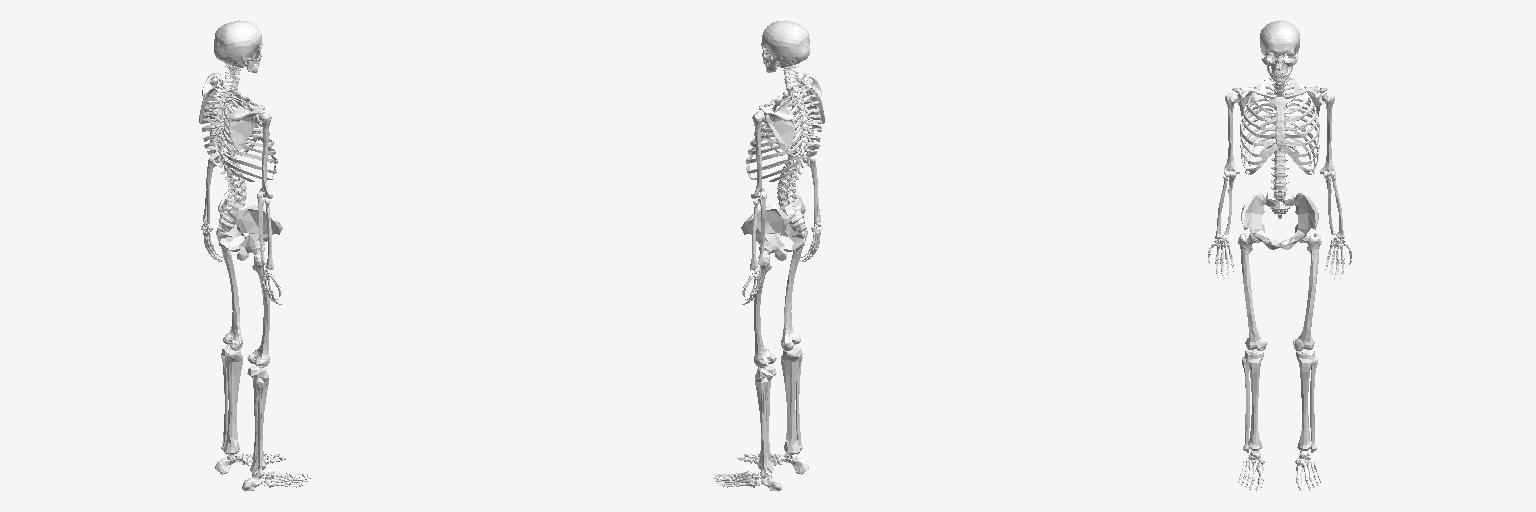
robot.urdf — human:
<?xml version="1.0"?>
<!-- created with Phobos 0.7 -->
  <robot name="human">

    <link name="calcn_l">
      <inertial>
        <origin xyz="0 0 0" rpy="0 0 0"/>
        <mass value="1.25"/>
        <inertia ixx="0.0014" ixy="0" ixz="0" iyy="0.0038999999" iyz="0" izz="0.0041"/>
      </inertial>
      <visual name="calcn_l_visual">
        <origin xyz="0 0 0" rpy="0 0 0"/>
        <geometry>
          <mesh filename="../meshes/obj/Calcn L.obj" scale="1.0 1.0 1.0"/>
        </geometry>
        <material name="mat_calcn_l_visual"/>
      </visual>
      <collision name="calcn_l_collision">
        <origin xyz="0 0 0" rpy="0 0 0"/>
        <geometry>
          <mesh filename="../meshes/obj/Calcn L.001.obj" scale="1.0 1.0 1.0"/>
        </geometry>
      </collision>
    </link>

    <link name="calcn_r">
      <inertial>
        <origin xyz="0 0 0" rpy="0 0 0"/>
        <mass value="1.25"/>
        <inertia ixx="0.0014" ixy="0" ixz="0" iyy="0.0038999999" iyz="0" izz="0.0041"/>
      </inertial>
      <visual name="calcn_r_visual">
        <origin xyz="0 0 0" rpy="0 0 0"/>
        <geometry>
          <mesh filename="../meshes/obj/Calcn R.obj" scale="1.0 1.0 1.0"/>
        </geometry>
        <material name="mat_calcn_r_visual"/>
      </visual>
      <collision name="calcn_r_collision">
        <origin xyz="0 0 0" rpy="0 0 0"/>
        <geometry>
          <mesh filename="../meshes/obj/Calcn R.001.obj" scale="1.0 1.0 1.0"/>
        </geometry>
      </collision>
    </link>

    <link name="femur_l">
      <inertial>
        <origin xyz="0 0 0" rpy="0 0 0"/>
        <mass value="9.3014"/>
        <inertia ixx="0.1339000016" ixy="0" ixz="0" iyy="0.0351000018" iyz="0" izz="0.141200006"/>
      </inertial>
      <visual name="femur_l_visual">
        <origin xyz="0 0 0" rpy="0 0 0"/>
        <geometry>
          <mesh filename="../meshes/obj/Femur L.obj" scale="1.0 1.0 1.0"/>
        </geometry>
        <material name="mat_femur_l_visual"/>
      </visual>
      <collision name="femur_l_collision">
        <origin xyz="0 0 0" rpy="0 0 0"/>
        <geometry>
          <mesh filename="../meshes/obj/Femur L.001.obj" scale="1.0 1.0 1.0"/>
        </geometry>
      </collision>
    </link>

    <link name="femur_r">
      <inertial>
        <origin xyz="0 0 0" rpy="0 0 0"/>
        <mass value="9.3014"/>
        <inertia ixx="0.1339000016" ixy="0" ixz="0" iyy="0.0351000018" iyz="0" izz="0.141200006"/>
      </inertial>
      <visual name="femur_r_visual">
        <origin xyz="0 0 0" rpy="0 0 0"/>
        <geometry>
          <mesh filename="../meshes/obj/Femur R.obj" scale="1.0 1.0 1.0"/>
        </geometry>
        <material name="mat_femur_r_visual"/>
      </visual>
      <collision name="femur_r_collision">
        <origin xyz="0 0 0" rpy="0 0 0"/>
        <geometry>
          <mesh filename="../meshes/obj/Femur R.001.obj" scale="1.0 1.0 1.0"/>
        </geometry>
      </collision>
    </link>

    <link name="hand_l">
      <inertial>
        <origin xyz="0 0 0" rpy="0 0 0"/>
        <mass value="0.4575"/>
        <inertia ixx="0.000892" ixy="0" ixz="0" iyy="0.000547" iyz="0" izz="0.00134"/>
      </inertial>
      <visual name="hand_l_visual">
        <origin xyz="0 0 0" rpy="0 0 0"/>
        <geometry>
          <mesh filename="../meshes/obj/Hand L.obj" scale="1.0 1.0 1.0"/>
        </geometry>
        <material name="mat_hand_l_visual"/>
      </visual>
      <collision name="hand_l_collision">
        <origin xyz="0 0 0" rpy="0 0 0"/>
        <geometry>
          <mesh filename="../meshes/obj/Hand L.001.obj" scale="1.0 1.0 1.0"/>
        </geometry>
      </collision>
    </link>

    <link name="hand_r">
      <inertial>
        <origin xyz="0 0 0" rpy="0 0 0"/>
        <mass value="0.4575"/>
        <inertia ixx="0.000892" ixy="0" ixz="0" iyy="0.000547" iyz="0" izz="0.00134"/>
      </inertial>
      <visual name="hand_r_visual">
        <origin xyz="0 0 0" rpy="0 0 0"/>
        <geometry>
          <mesh filename="../meshes/obj/Hand R.obj" scale="1.0 1.0 1.0"/>
        </geometry>
        <material name="mat_hand_r_visual"/>
      </visual>
      <collision name="hand_r_collision">
        <origin xyz="0 0 0" rpy="0 0 0"/>
        <geometry>
          <mesh filename="../meshes/obj/Hand R.001.obj" scale="1.0 1.0 1.0"/>
        </geometry>
      </collision>
    </link>

    <link name="humerus_l">
      <inertial>
        <origin xyz="0 0 0" rpy="0 0 0"/>
        <mass value="2.0325"/>
        <inertia ixx="0.0119460002" ixy="0" ixz="0" iyy="0.0041209999" iyz="0" izz="0.0134089999"/>
      </inertial>
      <visual name="humerus_l_visual">
        <origin xyz="0 0 0" rpy="0 0 0"/>
        <geometry>
          <mesh filename="../meshes/obj/Humerus L.obj" scale="1.0 1.0 1.0"/>
        </geometry>
        <material name="mat_humerus_l_visual"/>
      </visual>
      <collision name="humerus_l_collision">
        <origin xyz="0 0 0" rpy="0 0 0"/>
        <geometry>
          <mesh filename="../meshes/obj/Humerus L.001.obj" scale="1.0 1.0 1.0"/>
        </geometry>
      </collision>
    </link>

    <link name="humerus_r">
      <inertial>
        <origin xyz="0 0 0" rpy="0 0 0"/>
        <mass value="2.0325"/>
        <inertia ixx="0.0119460002" ixy="0" ixz="0" iyy="0.0041209999" iyz="0" izz="0.0134089999"/>
      </inertial>
      <visual name="humerus_r_visual">
        <origin xyz="0 0 0" rpy="0 0 0"/>
        <geometry>
          <mesh filename="../meshes/obj/Humerus R.obj" scale="1.0 1.0 1.0"/>
        </geometry>
        <material name="mat_humerus_r_visual"/>
      </visual>
      <collision name="humerus_r_collision">
        <origin xyz="0 0 0" rpy="0 0 0"/>
        <geometry>
          <mesh filename="../meshes/obj/Humerus R.001.obj" scale="1.0 1.0 1.0"/>
        </geometry>
      </collision>
    </link>

    <link name="pelvis">
      <inertial>
        <origin xyz="0 0 0" rpy="0 0 0"/>
        <mass value="11.777"/>
        <inertia ixx="0.1027999967" ixy="0" ixz="0" iyy="0.0870999992" iyz="0" izz="0.0579000004"/>
      </inertial>
      <visual name="pelvis_visual">
        <origin xyz="0 0 0" rpy="0 0 0"/>
        <geometry>
          <mesh filename="../meshes/obj/Pelvis.obj" scale="1.0 1.0 1.0"/>
        </geometry>
        <material name="mat_pelvis_visual"/>
      </visual>
      <collision name="pelvis_collision">
        <origin xyz="0 0 0" rpy="0 0 0"/>
        <geometry>
          <mesh filename="../meshes/obj/Pelvis.001.obj" scale="1.0 1.0 1.0"/>
        </geometry>
      </collision>
    </link>

    <link name="radius_l">
      <inertial>
        <origin xyz="0 0 0" rpy="0 0 0"/>
        <mass value="0.6075"/>
        <inertia ixx="0.002962" ixy="0" ixz="0" iyy="0.000618" iyz="0" izz="0.003213"/>
      </inertial>
      <visual name="radius_l_visual">
        <origin xyz="0 0 0" rpy="0 0 0"/>
        <geometry>
          <mesh filename="../meshes/obj/Radius L.obj" scale="1.0 1.0 1.0"/>
        </geometry>
        <material name="mat_radius_l_visual"/>
      </visual>
      <collision name="radius_l_collision">
        <origin xyz="0 0 0" rpy="0 0 0"/>
        <geometry>
          <mesh filename="../meshes/obj/Radius L.001.obj" scale="1.0 1.0 1.0"/>
        </geometry>
      </collision>
    </link>

    <link name="radius_r">
      <inertial>
        <origin xyz="0 0 0" rpy="0 0 0"/>
        <mass value="0.6075"/>
        <inertia ixx="0.002962" ixy="0" ixz="0" iyy="0.000618" iyz="0" izz="0.003213"/>
      </inertial>
      <visual name="radius_r_visual">
        <origin xyz="0 0 0" rpy="0 0 0"/>
        <geometry>
          <mesh filename="../meshes/obj/Radius R.obj" scale="1.0 1.0 1.0"/>
        </geometry>
        <material name="mat_radius_r_visual"/>
      </visual>
      <collision name="radius_r_collision">
        <origin xyz="0 0 0" rpy="0 0 0"/>
        <geometry>
          <mesh filename="../meshes/obj/Radius R.001.obj" scale="1.0 1.0 1.0"/>
        </geometry>
      </collision>
    </link>

    <link name="talus_l">
      <inertial>
        <origin xyz="0 0 0" rpy="0 0 0"/>
        <mass value="0.1"/>
        <inertia ixx="0.001" ixy="0" ixz="0" iyy="0.001" iyz="0" izz="0.001"/>
      </inertial>
      <visual name="talus_l_visual">
        <origin xyz="0 0 0" rpy="0 0 0"/>
        <geometry>
          <mesh filename="../meshes/obj/Talus L.obj" scale="1.0 1.0 1.0"/>
        </geometry>
        <material name="mat_talus_l_visual"/>
      </visual>
      <collision name="talus_l_collision">
        <origin xyz="0 0 0" rpy="0 0 0"/>
        <geometry>
          <mesh filename="../meshes/obj/Talus L.001.obj" scale="1.0 1.0 1.0"/>
        </geometry>
      </collision>
    </link>

    <link name="talus_r">
      <inertial>
        <origin xyz="0 0 0" rpy="0 0 0"/>
        <mass value="0.1"/>
        <inertia ixx="0.001" ixy="0" ixz="0" iyy="0.001" iyz="0" izz="0.001"/>
      </inertial>
      <visual name="talus_r_visual">
        <origin xyz="0 0 0" rpy="0 0 0"/>
        <geometry>
          <mesh filename="../meshes/obj/Talus R.obj" scale="1.0 1.0 1.0"/>
        </geometry>
        <material name="mat_talus_r_visual"/>
      </visual>
      <collision name="talus_r_collision">
        <origin xyz="0 0 0" rpy="0 0 0"/>
        <geometry>
          <mesh filename="../meshes/obj/Talus R.001.obj" scale="1.0 1.0 1.0"/>
        </geometry>
      </collision>
    </link>

    <link name="tibia_l">
      <inertial>
        <origin xyz="0 0 0" rpy="0 0 0"/>
        <mass value="3.7075"/>
        <inertia ixx="0.0504000001" ixy="0" ixz="0" iyy="0.0051000002" iyz="0" izz="0.0511000007"/>
      </inertial>
      <visual name="tibia_l_visual">
        <origin xyz="0 0 0" rpy="0 0 0"/>
        <geometry>
          <mesh filename="../meshes/obj/Tibia L.obj" scale="1.0 1.0 1.0"/>
        </geometry>
        <material name="mat_tibia_l_visual"/>
      </visual>
      <collision name="tibia_l_collision">
        <origin xyz="0 0 0" rpy="0 0 0"/>
        <geometry>
          <mesh filename="../meshes/obj/Tibia L.001.obj" scale="1.0 1.0 1.0"/>
        </geometry>
      </collision>
    </link>

    <link name="tibia_r">
      <inertial>
        <origin xyz="0 0 0" rpy="0 0 0"/>
        <mass value="3.7075"/>
        <inertia ixx="0.0504000001" ixy="0" ixz="0" iyy="0.0051000002" iyz="0" izz="0.0511000007"/>
      </inertial>
      <visual name="tibia_r_visual">
        <origin xyz="0 0 0" rpy="0 0 0"/>
        <geometry>
          <mesh filename="../meshes/obj/Tibia R.obj" scale="1.0 1.0 1.0"/>
        </geometry>
        <material name="mat_tibia_r_visual"/>
      </visual>
      <collision name="tibia_r_collision">
        <origin xyz="0 0 0" rpy="0 0 0"/>
        <geometry>
          <mesh filename="../meshes/obj/Tibia R.001.obj" scale="1.0 1.0 1.0"/>
        </geometry>
      </collision>
    </link>

    <link name="toes_l">
      <inertial>
        <origin xyz="0 0 0" rpy="0 0 0"/>
        <mass value="0.2166"/>
        <inertia ixx="0.0001" ixy="0" ixz="0" iyy="0.0002" iyz="0" izz="0.001"/>
      </inertial>
      <visual name="toes_l_visual">
        <origin xyz="0 0 0" rpy="0 0 0"/>
        <geometry>
          <mesh filename="../meshes/obj/Toes L.obj" scale="1.0 1.0 1.0"/>
        </geometry>
        <material name="mat_toes_l_visual"/>
      </visual>
      <collision name="toes_l_collision">
        <origin xyz="0 0 0" rpy="0 0 0"/>
        <geometry>
          <mesh filename="../meshes/obj/Toes L.001.obj" scale="1.0 1.0 1.0"/>
        </geometry>
      </collision>
    </link>

    <link name="toes_r">
      <inertial>
        <origin xyz="0 0 0" rpy="0 0 0"/>
        <mass value="0.2166"/>
        <inertia ixx="0.0001" ixy="0" ixz="0" iyy="0.0002" iyz="0" izz="0.001"/>
      </inertial>
      <visual name="toes_r_visual">
        <origin xyz="0 0 0" rpy="0 0 0"/>
        <geometry>
          <mesh filename="../meshes/obj/Toes R.obj" scale="1.0 1.0 1.0"/>
        </geometry>
        <material name="mat_toes_r_visual"/>
      </visual>
      <collision name="toes_r_collision">
        <origin xyz="0 0 0" rpy="0 0 0"/>
        <geometry>
          <mesh filename="../meshes/obj/Toes R.001.obj" scale="1.0 1.0 1.0"/>
        </geometry>
      </collision>
    </link>

    <link name="torso">
      <inertial>
        <origin xyz="0 0 0" rpy="0 0 0"/>
        <mass value="26.8266"/>
        <inertia ixx="1.4744999409" ixy="0" ixz="0" iyy="0.7555000186" iyz="0" izz="1.4313999414"/>
      </inertial>
      <visual name="torso_visual">
        <origin xyz="0 0 0" rpy="0 0 0"/>
        <geometry>
          <mesh filename="../meshes/obj/Torso.obj" scale="1.0 1.0 1.0"/>
        </geometry>
        <material name="mat_torso_visual"/>
      </visual>
      <collision name="torso_collision">
        <origin xyz="0 0 0" rpy="0 0 0"/>
        <geometry>
          <mesh filename="../meshes/obj/Torso.001.obj" scale="1.0 1.0 1.0"/>
        </geometry>
      </collision>
    </link>

    <link name="ulna_l">
      <inertial>
        <origin xyz="0 0 0" rpy="0 0 0"/>
        <mass value="0.6075"/>
        <inertia ixx="0.002962" ixy="0" ixz="0" iyy="0.000618" iyz="0" izz="0.003213"/>
      </inertial>
      <visual name="ulna_l_visual">
        <origin xyz="0 0 0" rpy="0 0 0"/>
        <geometry>
          <mesh filename="../meshes/obj/Ulna L.obj" scale="1.0 1.0 1.0"/>
        </geometry>
        <material name="mat_ulna_l_visual"/>
      </visual>
      <collision name="ulna_l_collision">
        <origin xyz="0 0 0" rpy="0 0 0"/>
        <geometry>
          <mesh filename="../meshes/obj/Ulna L.001.obj" scale="1.0 1.0 1.0"/>
        </geometry>
      </collision>
    </link>

    <link name="ulna_r">
      <inertial>
        <origin xyz="0 0 0" rpy="0 0 0"/>
        <mass value="0.6075"/>
        <inertia ixx="0.002962" ixy="0" ixz="0" iyy="0.000618" iyz="0" izz="0.003213"/>
      </inertial>
      <visual name="ulna_r_visual">
        <origin xyz="0 0 0" rpy="0 0 0"/>
        <geometry>
          <mesh filename="../meshes/obj/Ulna R.obj" scale="1.0 1.0 1.0"/>
        </geometry>
        <material name="mat_ulna_r_visual"/>
      </visual>
      <collision name="ulna_r_collision">
        <origin xyz="0 0 0" rpy="0 0 0"/>
        <geometry>
          <mesh filename="../meshes/obj/Ulna R.001.obj" scale="1.0 1.0 1.0"/>
        </geometry>
      </collision>
    </link>

    <joint name="joint_calcn_l" type="revolute">
      <origin xyz="-0.0487699956 0.0079200044 -0.0419499874" rpy="0 0 0"/>
      <parent link="talus_l"/>
      <child link="calcn_l"/>
      <axis xyz="0 1.0 0"/>
      <limit lower="-3.141592741" upper="3.141592741" effort="10000000000.0" velocity="628.318530718"/>
    </joint>

    <joint name="joint_calcn_r" type="revolute">
      <origin xyz="-0.0487699956 -0.0079200044 -0.0419499874" rpy="0 0 0"/>
      <parent link="talus_r"/>
      <child link="calcn_r"/>
      <axis xyz="0 -1.0 0"/>
      <limit lower="-3.141592741" upper="3.141592741" effort="10000000000.0" velocity="628.318530718"/>
    </joint>

    <joint name="joint_femur_l" type="revolute">
      <origin xyz="-0.0706999972 0.0834999979 -0.0661000013" rpy="0 0 0"/>
      <parent link="pelvis"/>
      <child link="femur_l"/>
      <axis xyz="0 1.0 0"/>
      <limit lower="-3.141592741" upper="3.141592741" effort="10000000000.0" velocity="628.318530718"/>
    </joint>

    <joint name="joint_femur_r" type="revolute">
      <origin xyz="-0.0706999972 -0.0834999979 -0.0661000013" rpy="0 0 0"/>
      <parent link="pelvis"/>
      <child link="femur_r"/>
      <axis xyz="1.0 0 0"/>
      <limit lower="-3.141592741" upper="3.141592741" effort="10000000000.0" velocity="628.318530718"/>
    </joint>

    <joint name="joint_hand_l" type="revolute">
      <origin xyz="-0.0087969974 0.0136099905 -0.235841006" rpy="0 0 0"/>
      <parent link="radius_l"/>
      <child link="hand_l"/>
      <axis xyz="0 1.0 0"/>
      <limit lower="-3.141592741" upper="3.141592741" effort="10000000000.0" velocity="628.318530718"/>
    </joint>

    <joint name="joint_hand_r" type="revolute">
      <origin xyz="-0.0087969974 -0.0136099905 -0.235841006" rpy="0 0 0"/>
      <parent link="radius_r"/>
      <child link="hand_r"/>
      <axis xyz="0 -1.0 0"/>
      <limit lower="-3.141592741" upper="3.141592741" effort="10000000000.0" velocity="628.318530718"/>
    </joint>

    <joint name="joint_humerus_l" type="revolute">
      <origin xyz="0.0031550005 0.1700000018 0.3715000153" rpy="0 0 0"/>
      <parent link="torso"/>
      <child link="humerus_l"/>
      <axis xyz="0 1.0 0"/>
      <limit lower="-3.141592741" upper="3.141592741" effort="10000000000.0" velocity="628.318530718"/>
    </joint>

    <joint name="joint_humerus_r" type="revolute">
      <origin xyz="0.0031550005 -0.1700000018 0.3715000153" rpy="0 0 0"/>
      <parent link="torso"/>
      <child link="humerus_r"/>
      <axis xyz="0 -1.0 0"/>
      <limit lower="-3.141592741" upper="3.141592741" effort="10000000000.0" velocity="628.318530718"/>
    </joint>

    <joint name="joint_radius_l" type="revolute">
      <origin xyz="-0.0067270026 0.0260830075 -0.0130070001" rpy="0 0 0"/>
      <parent link="ulna_l"/>
      <child link="radius_l"/>
      <axis xyz="0 1.0 0"/>
      <limit lower="-3.141592741" upper="3.141592741" effort="10000000000.0" velocity="628.318530718"/>
    </joint>

    <joint name="joint_radius_r" type="revolute">
      <origin xyz="-0.0067270026 -0.0260830075 -0.0130070001" rpy="0 0 0"/>
      <parent link="ulna_r"/>
      <child link="radius_r"/>
      <axis xyz="0 -1.0 0"/>
      <limit lower="-3.141592741" upper="3.141592741" effort="10000000000.0" velocity="628.318530718"/>
    </joint>

    <joint name="joint_talus_l" type="revolute">
      <origin xyz="0 0 -0.4299999774" rpy="0 0 0"/>
      <parent link="tibia_l"/>
      <child link="talus_l"/>
      <axis xyz="0 1.0 0"/>
      <limit lower="-3.141592741" upper="3.141592741" effort="10000000000.0" velocity="628.318530718"/>
    </joint>

    <joint name="joint_talus_r" type="revolute">
      <origin xyz="0 0 -0.4299999774" rpy="0 0 0"/>
      <parent link="tibia_r"/>
      <child link="talus_r"/>
      <axis xyz="0 -1.0 0"/>
      <limit lower="-3.141592741" upper="3.141592741" effort="10000000000.0" velocity="628.318530718"/>
    </joint>

    <joint name="joint_tibia_l" type="revolute">
      <origin xyz="-0.0044998601 0 -0.3958207071" rpy="0 0 0"/>
      <parent link="femur_l"/>
      <child link="tibia_l"/>
      <axis xyz="0 1.0 0"/>
      <limit lower="-3.141592741" upper="3.141592741" effort="10000000000.0" velocity="628.318530718"/>
    </joint>

    <joint name="joint_tibia_r" type="revolute">
      <origin xyz="-0.0044998601 0 -0.3958207071" rpy="0 0 0"/>
      <parent link="femur_r"/>
      <child link="tibia_r"/>
      <axis xyz="0 -1.0 0"/>
      <limit lower="-3.141592741" upper="3.141592741" effort="10000000000.0" velocity="628.318530718"/>
    </joint>

    <joint name="joint_toes_l" type="revolute">
      <origin xyz="0.1788000017 0.0010799989 -0.0020000339" rpy="0 0 0"/>
      <parent link="calcn_l"/>
      <child link="toes_l"/>
      <axis xyz="0 1.0 0"/>
      <limit lower="-3.141592741" upper="3.141592741" effort="10000000000.0" velocity="628.318530718"/>
    </joint>

    <joint name="joint_toes_r" type="revolute">
      <origin xyz="0.1788000017 -0.0010799989 -0.0020000339" rpy="0 0 0"/>
      <parent link="calcn_r"/>
      <child link="toes_r"/>
      <axis xyz="0 -1.0 0"/>
      <limit lower="-3.141592741" upper="3.141592741" effort="10000000000.0" velocity="628.318530718"/>
    </joint>

    <joint name="joint_torso" type="revolute">
      <origin xyz="-0.1006999984 0 0.0815000013" rpy="0 0 0"/>
      <parent link="pelvis"/>
      <child link="torso"/>
      <axis xyz="0 1.0 0"/>
      <limit lower="-3.141592741" upper="3.141592741" effort="10000000000.0" velocity="628.318530718"/>
    </joint>

    <joint name="joint_ulna_l" type="revolute">
      <origin xyz="0.0131440014 -0.0095950067 -0.2862730026" rpy="0 0 0"/>
      <parent link="humerus_l"/>
      <child link="ulna_l"/>
      <axis xyz="0 1.0 0"/>
      <limit lower="-3.141592741" upper="3.141592741" effort="10000000000.0" velocity="628.318530718"/>
    </joint>

    <joint name="joint_ulna_r" type="revolute">
      <origin xyz="0.0131440014 0.0095950067 -0.2862730026" rpy="0 0 0"/>
      <parent link="humerus_r"/>
      <child link="ulna_r"/>
      <axis xyz="0 -1.0 0"/>
      <limit lower="-3.141592741" upper="3.141592741" effort="10000000000.0" velocity="628.318530718"/>
    </joint>

    <material name="mat_calcn_l_visual">
      <color rgba="1.0 1.0 1.0 1.0"/>
    </material>

    <material name="mat_calcn_r_visual">
      <color rgba="1.0 1.0 1.0 1.0"/>
    </material>

    <material name="mat_femur_l_visual">
      <color rgba="1.0 1.0 1.0 1.0"/>
    </material>

    <material name="mat_femur_r_visual">
      <color rgba="1.0 1.0 1.0 1.0"/>
    </material>

    <material name="mat_hand_l_visual">
      <color rgba="1.0 1.0 1.0 1.0"/>
    </material>

    <material name="mat_hand_r_visual">
      <color rgba="1.0 1.0 1.0 1.0"/>
    </material>

    <material name="mat_humerus_l_visual">
      <color rgba="1.0 1.0 1.0 1.0"/>
    </material>

    <material name="mat_humerus_r_visual">
      <color rgba="1.0 1.0 1.0 1.0"/>
    </material>

    <material name="mat_pelvis_visual">
      <color rgba="1.0 1.0 1.0 1.0"/>
    </material>

    <material name="mat_radius_l_visual">
      <color rgba="1.0 1.0 1.0 1.0"/>
    </material>

    <material name="mat_radius_r_visual">
      <color rgba="1.0 1.0 1.0 1.0"/>
    </material>

    <material name="mat_talus_l_visual">
      <color rgba="1.0 1.0 1.0 1.0"/>
    </material>

    <material name="mat_talus_r_visual">
      <color rgba="1.0 1.0 1.0 1.0"/>
    </material>

    <material name="mat_tibia_l_visual">
      <color rgba="1.0 1.0 1.0 1.0"/>
    </material>

    <material name="mat_tibia_r_visual">
      <color rgba="1.0 1.0 1.0 1.0"/>
    </material>

    <material name="mat_toes_l_visual">
      <color rgba="1.0 1.0 1.0 1.0"/>
    </material>

    <material name="mat_toes_r_visual">
      <color rgba="1.0 1.0 1.0 1.0"/>
    </material>

    <material name="mat_torso_visual">
      <color rgba="1.0 1.0 1.0 1.0"/>
    </material>

    <material name="mat_ulna_l_visual">
      <color rgba="1.0 1.0 1.0 1.0"/>
    </material>

    <material name="mat_ulna_r_visual">
      <color rgba="1.0 1.0 1.0 1.0"/>
    </material>

  </robot>

--- Facts derived from the render (not from the file) ---
The picture shows the robot from 3 angles, left to right: view 1: azimuth 30°, elevation 25°; view 2: azimuth 150°, elevation 25°; view 3: azimuth 270°, elevation 25°; orthographic projection.
Model human with 20 links and 19 joints (19 revolute), rooted at pelvis, posed all joints at 0.
Links seen in each view (by area): view 1: torso, pelvis, tibia_l, tibia_r, femur_r, femur_l, calcn_r, humerus_r; view 2: torso, pelvis, tibia_r, tibia_l, femur_l, femur_r, calcn_l, humerus_l; view 3: torso, pelvis, tibia_l, tibia_r, femur_l, femur_r, humerus_l, humerus_r.
Link boxes in pixels (x1,y1,x2,y2): torso: (199, 20, 277, 204); pelvis: (217, 191, 282, 260); tibia_l: (221, 344, 242, 454); tibia_r: (247, 365, 268, 478); femur_r: (247, 245, 269, 368); femur_l: (216, 228, 242, 350); calcn_r: (242, 471, 292, 491); humerus_r: (259, 111, 272, 198); torso: (746, 20, 824, 204); pelvis: (741, 191, 806, 260); tibia_r: (781, 344, 802, 454); tibia_l: (755, 365, 776, 478); femur_l: (754, 245, 776, 368); femur_r: (781, 229, 807, 350); calcn_l: (731, 471, 781, 491); humerus_l: (751, 111, 764, 198); torso: (1232, 20, 1327, 200); pelvis: (1241, 192, 1318, 249); tibia_l: (1296, 349, 1317, 452); tibia_r: (1242, 349, 1263, 452); femur_l: (1293, 233, 1321, 350); femur_r: (1238, 233, 1266, 350); humerus_l: (1320, 93, 1335, 177); humerus_r: (1224, 93, 1239, 177).
Bounding box of the posed robot: 0.3299 × 0.5017 × 1.68 m (x, y, z).
20 mesh visuals loaded from 20 distinct referenced files (20 OBJ).
